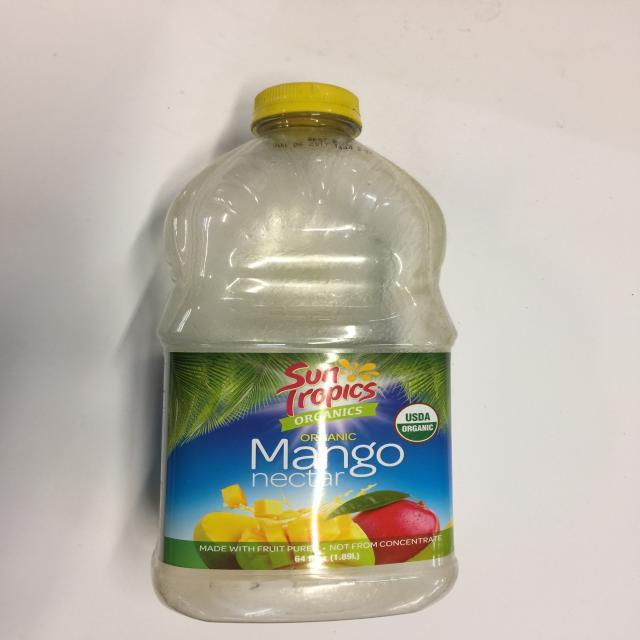plastic: (150, 80, 464, 622)
